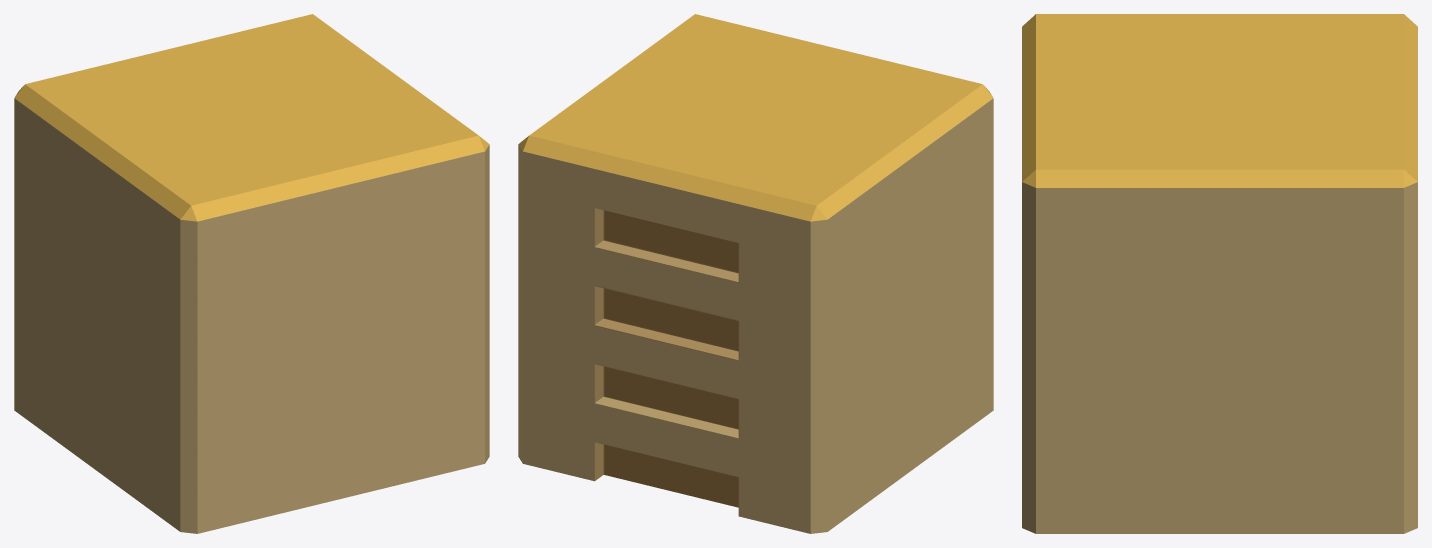
File: square5.fbx
The picture shows the model from 3 angles, left to right: view 1: azimuth 30°, elevation 25°; view 2: azimuth 150°, elevation 25°; view 3: azimuth 270°, elevation 25°; orthographic projection. The views are drawn at different scales.
Visible parts, largest first — view 1: Cube.096; view 2: Cube.096; view 3: Cube.096.
Boxes of the visible parts, x1,y1,x2,y2 form: Cube.096: (14, 14, 489, 533); Cube.096: (518, 14, 993, 533); Cube.096: (1022, 14, 1417, 533).
Bounding box in the file's own units: 200 × 200 × 200.
